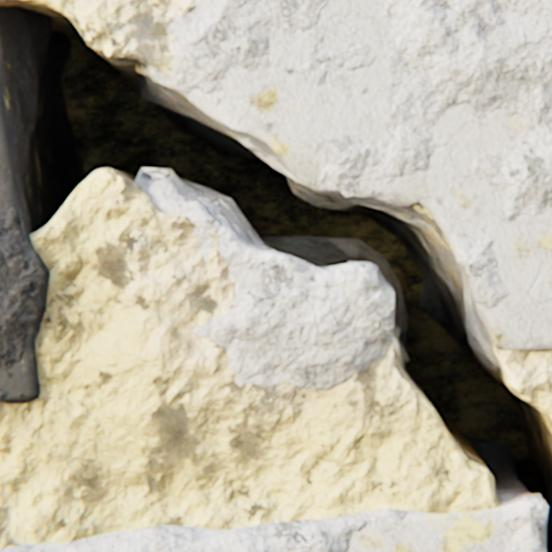brick: (0, 496, 546, 551), (0, 84, 51, 402)
broken_brick: (151, 0, 551, 350), (154, 192, 399, 389)
crack: (0, 0, 551, 551)
